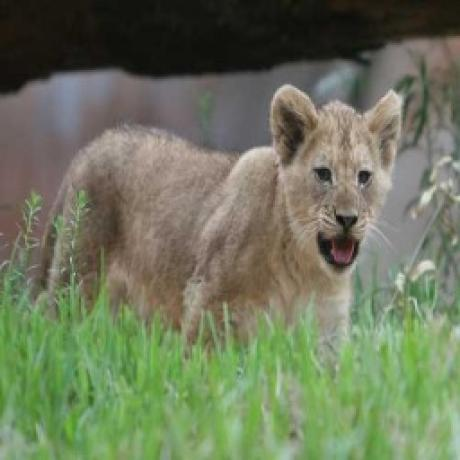Lion: (28, 80, 406, 351)
